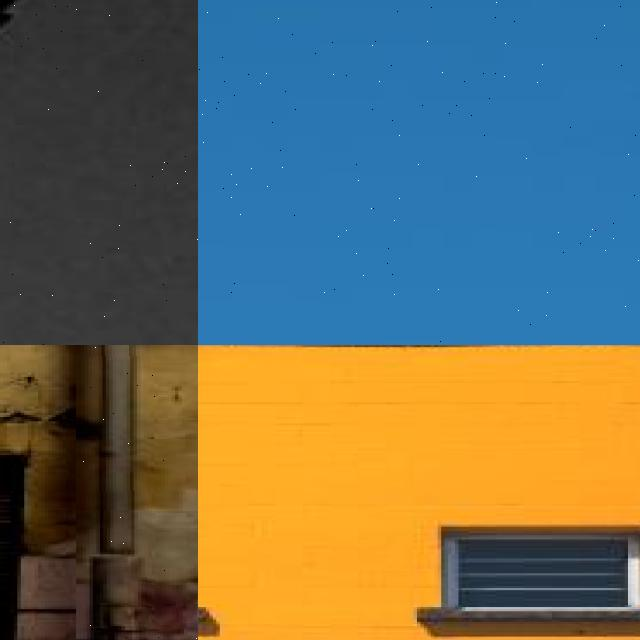street light: (198, 0, 640, 345), (0, 0, 198, 345), (76, 345, 198, 640)
